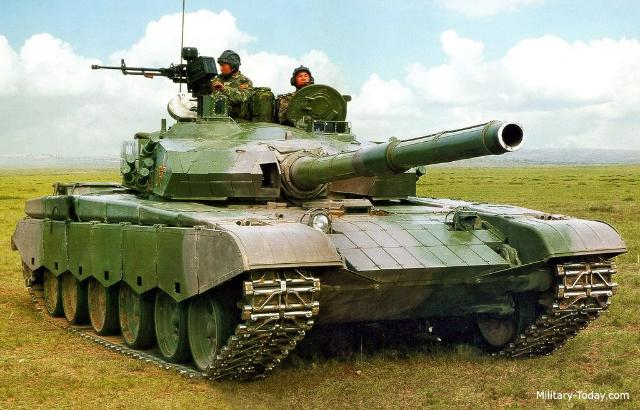other: (214, 48, 250, 93), (290, 64, 316, 92)
tank: (17, 74, 606, 356)
